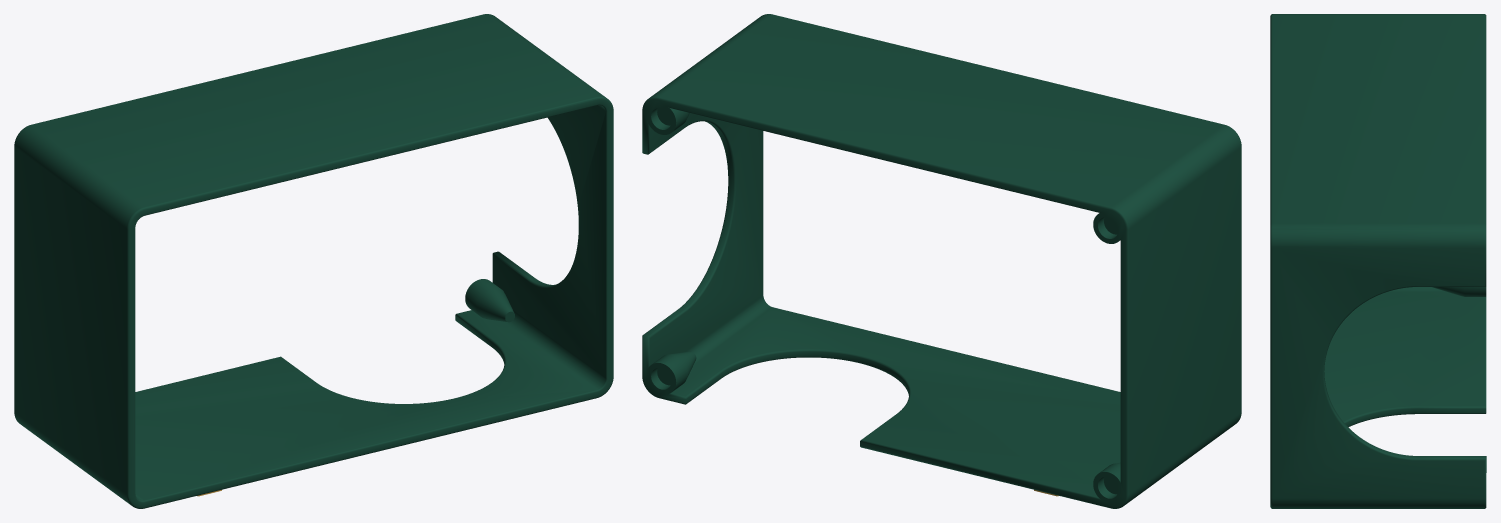
The picture shows the model from 3 angles, left to right: view 1: azimuth 30°, elevation 25°; view 2: azimuth 150°, elevation 25°; view 3: azimuth 270°, elevation 25°; orthographic projection. The views are drawn at different scales.
Parts seen in each view (by area): view 1: A01_PineGreen; view 2: A01_PineGreen; view 3: A01_PineGreen.
Part boxes in pixels (x1,y1,x2,y2): A01_PineGreen: (14, 14, 613, 508); A01_PineGreen: (642, 14, 1241, 508); A01_PineGreen: (1270, 14, 1486, 508).
Bounding box in the file's own units: 196 × 120 × 80.
